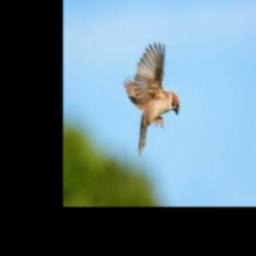Sparrow: (124, 43, 180, 156)
